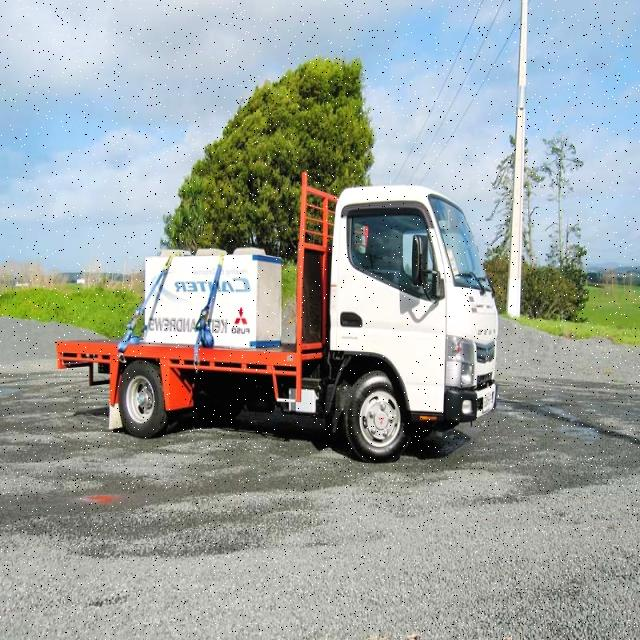truck: (57, 165, 502, 464)
